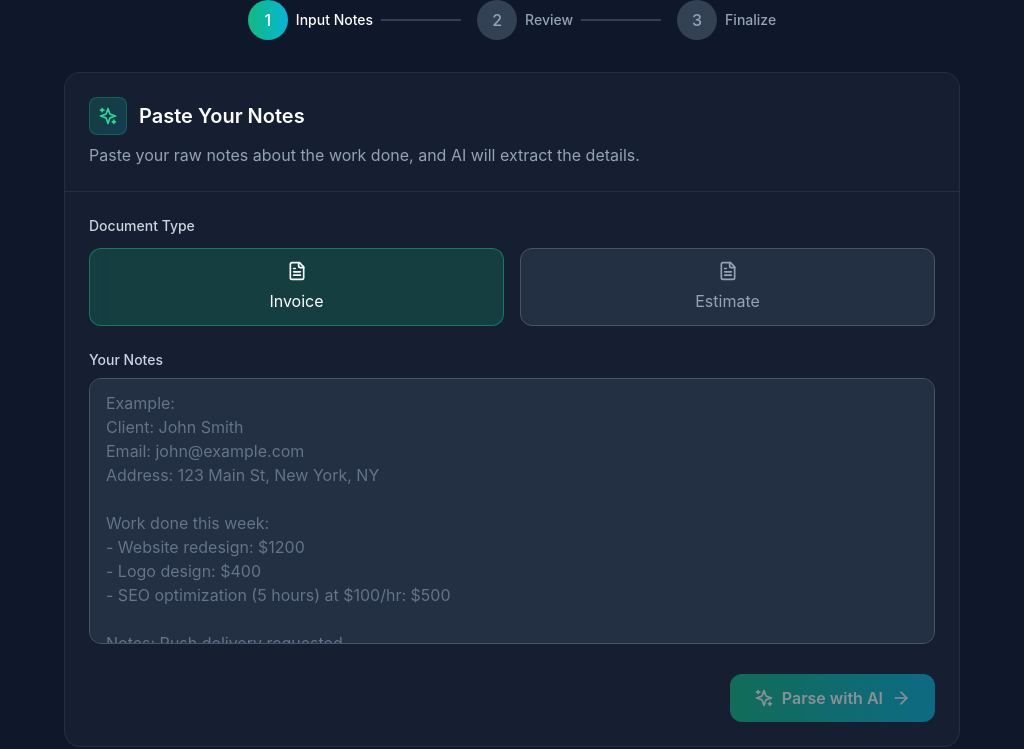
Scenario: Review-step 'Try AI parsing again' retry › a successful AI retry replaces the fields and hides the fallback banner
Replace the text in the text box with placeholder "Example:" with "consulting $500" at (512, 511), box [89,378,935,644]
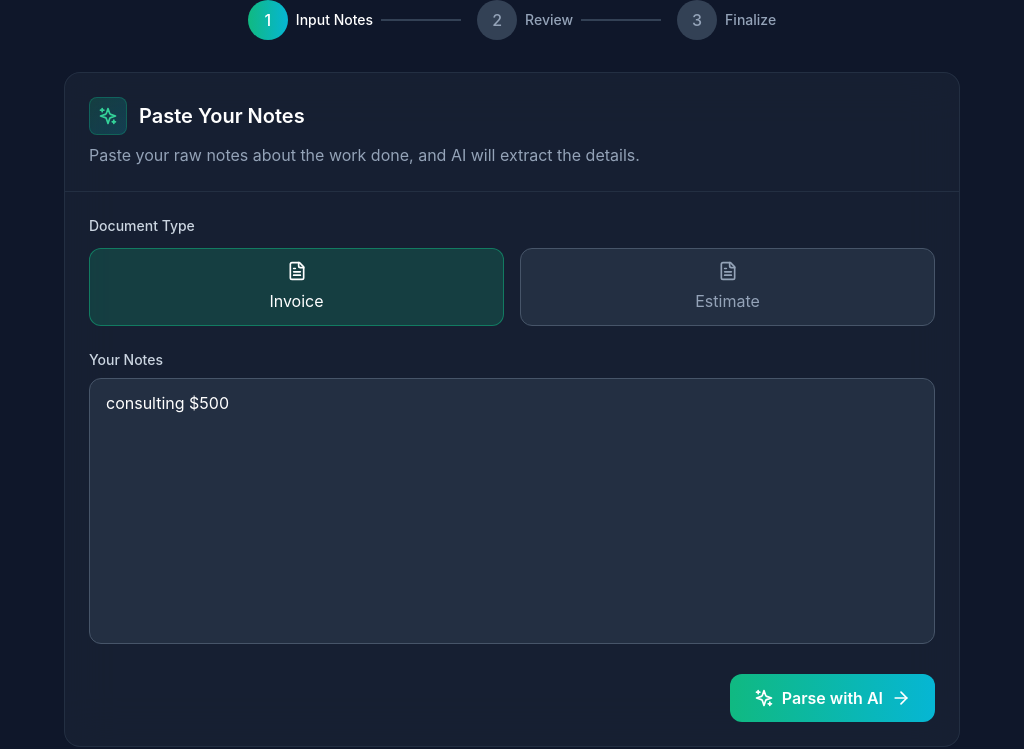
Click the button "Parse with AI" at (832, 698), box [730,674,935,722]
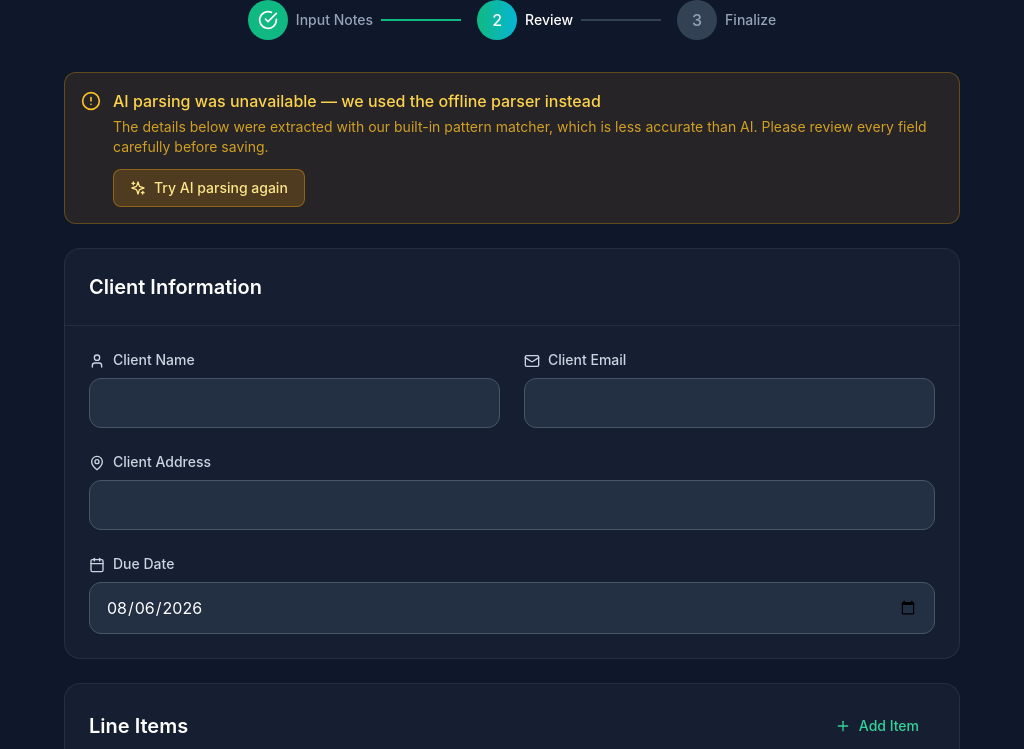
Expected: the field showing "Acme Corp" is not shown
Now the text "AI parsing was unavailable" is shown, box [113,91,601,111]
Click the button "Try AI parsing again" at (209, 188), box [113,169,305,207]
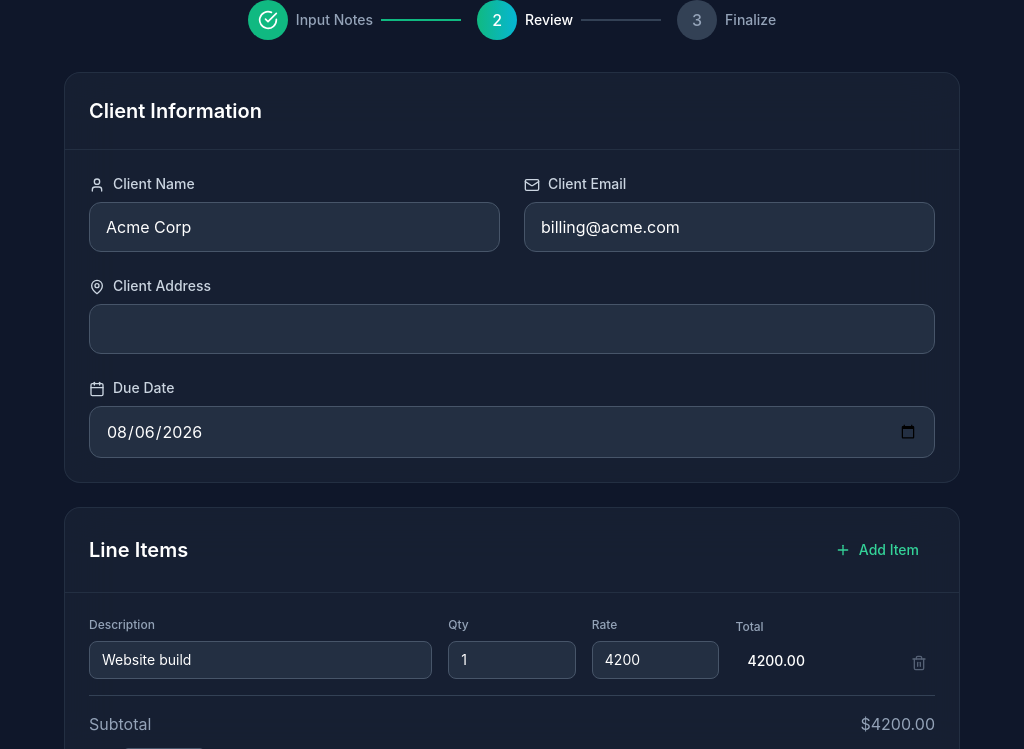
Now the field showing "Acme Corp" below "Client Name" is shown, box [89,202,500,252]
Now the field showing "billing@acme.com" below "Client Email" is shown, box [524,202,935,252]
Now the text "AI parsing was unavailable" is gone
